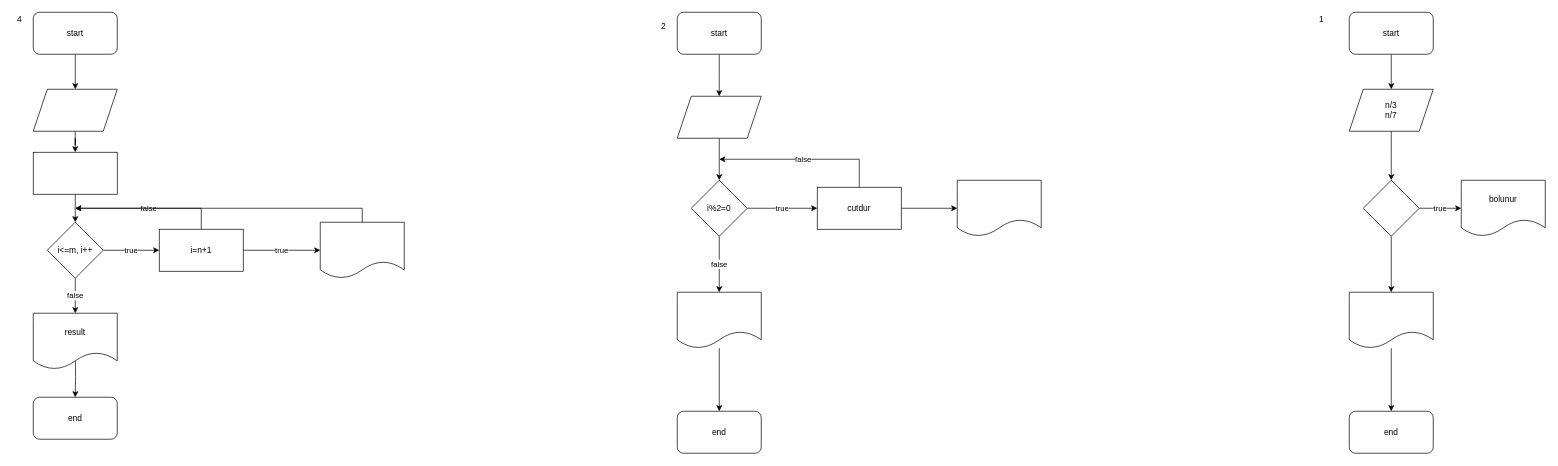
The diagram is 1558 pixels wide and 466 high, and some of its shapes have lost their labels. Each missing label, with the box of its shape:
bolunmur: (1349, 292, 1433, 348)
n m: (677, 96, 761, 138)
n=0 m=1: (33, 152, 117, 194)
n>=0: (1363, 180, 1419, 236)
result=n+m: (957, 180, 1041, 236)
tekdir: (677, 292, 761, 348)
